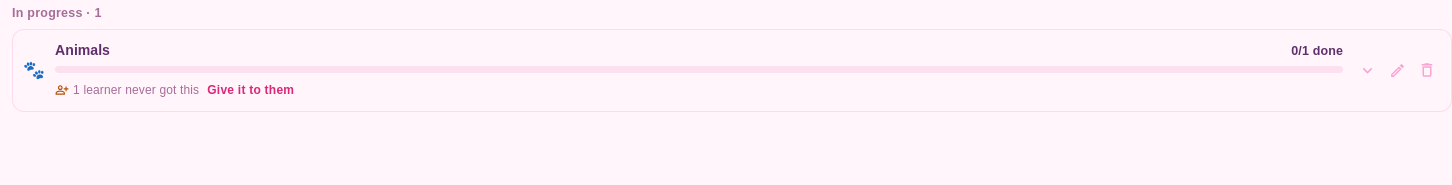
Test: AssignmentsList › lists the missing members inside the expanded member list
The image size is (1452, 185).
Click the button named "Show who's done". click: coordinates (1368, 70)
box: x1=1353 y1=56 x2=1382 y2=85
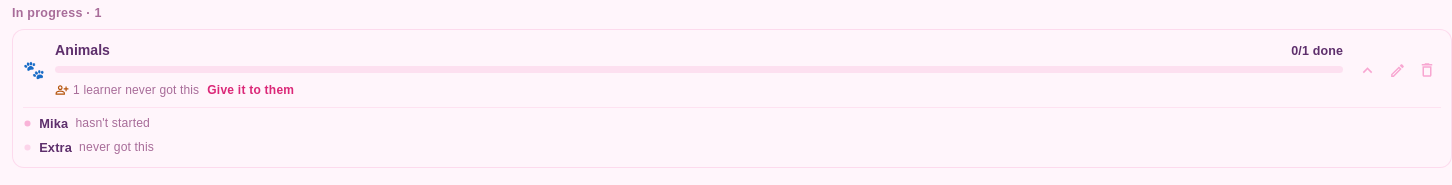
Result: the text "Extra" is shown at x1=39 y1=138 x2=72 y2=157
Result: the text "never got this" is shown at x1=79 y1=138 x2=154 y2=156
